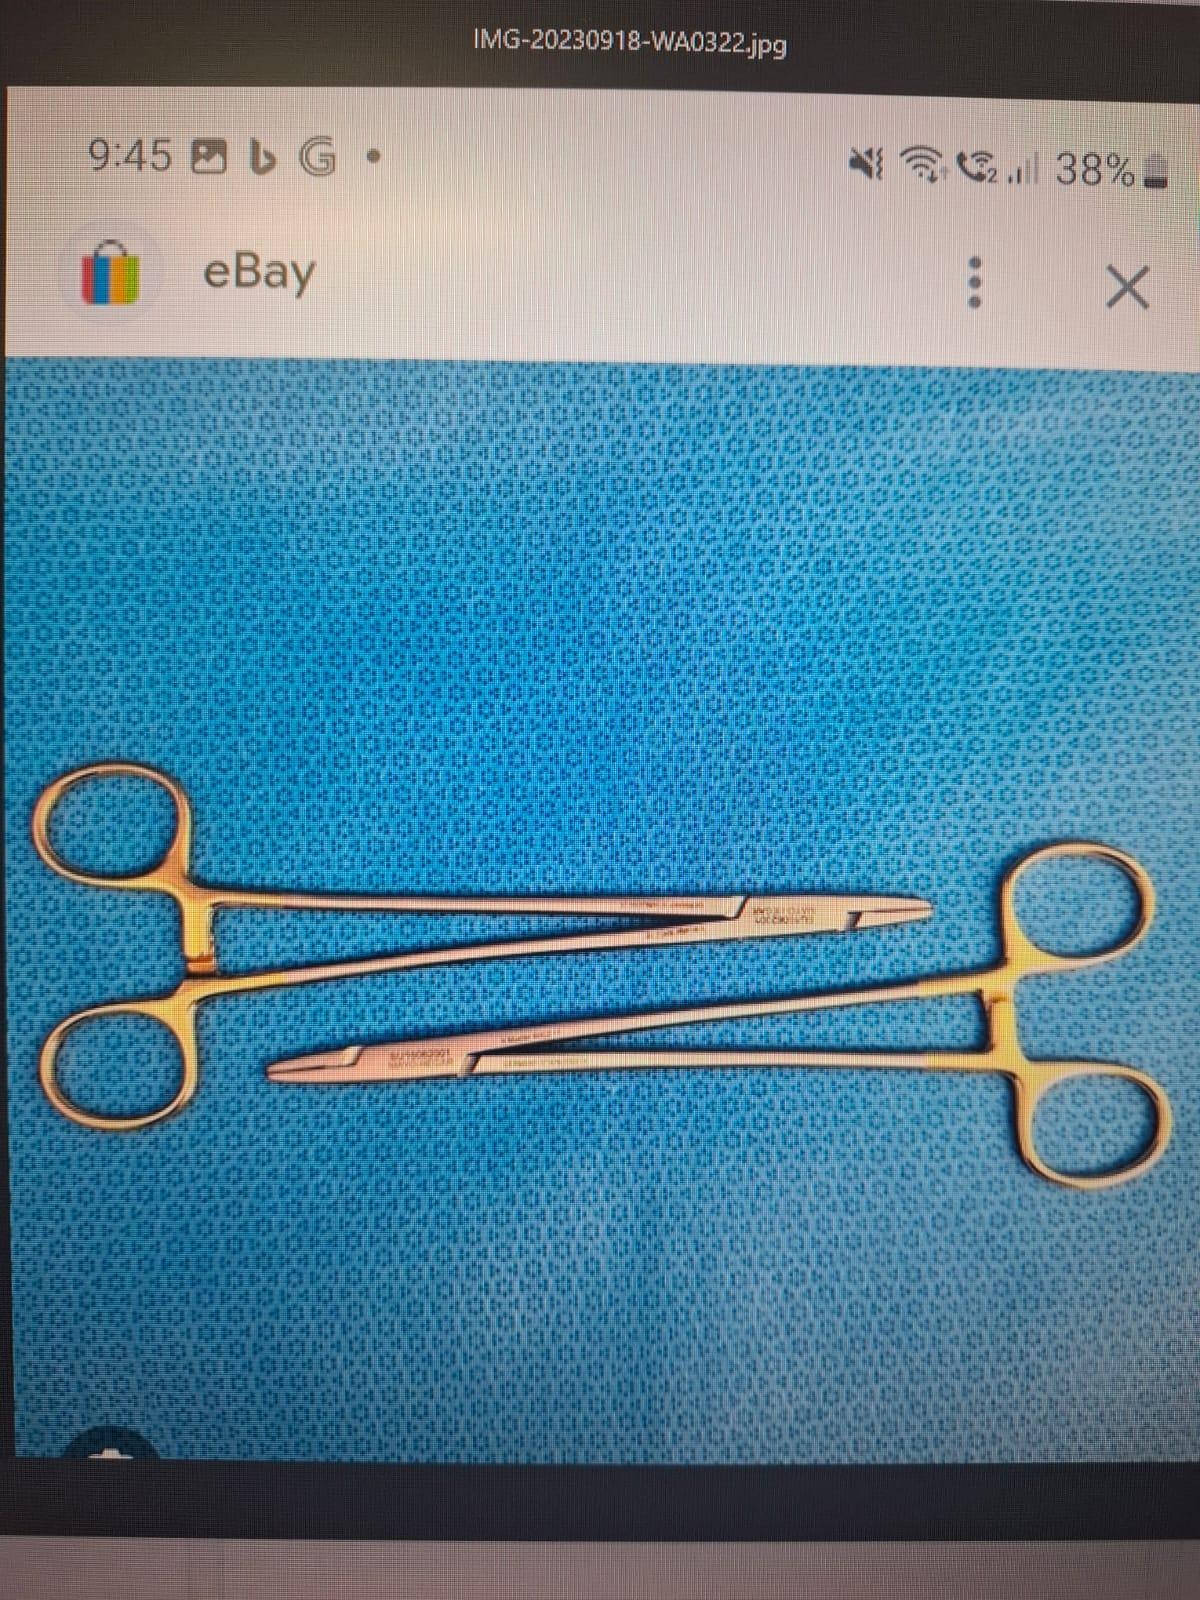Needle Holder: (15, 742, 948, 1163), (252, 830, 1185, 1212)
